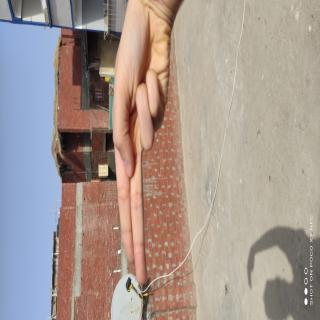AYN: (14, 243, 144, 320)
